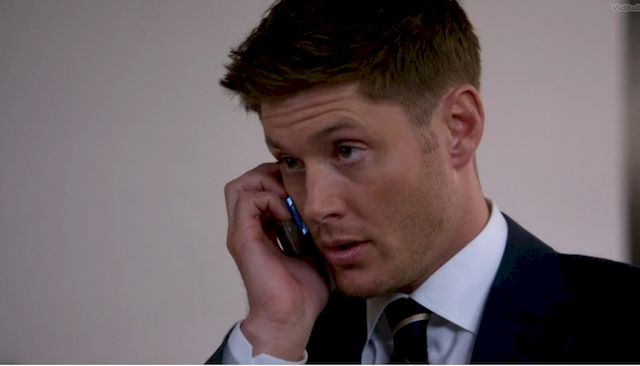phone: (256, 179, 325, 283)
talk: (219, 113, 410, 318)
